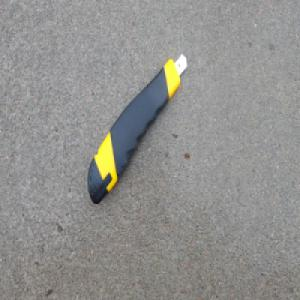Cutter: (86, 50, 188, 205)
